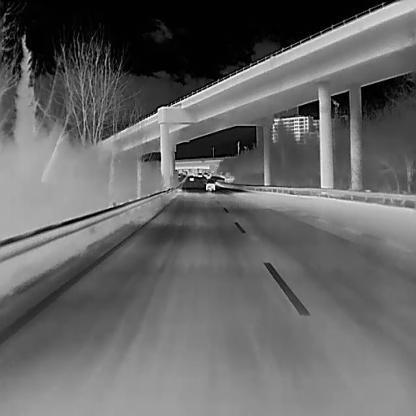car: (205, 179, 215, 190), (189, 175, 195, 180), (197, 173, 202, 177), (203, 173, 207, 177)
